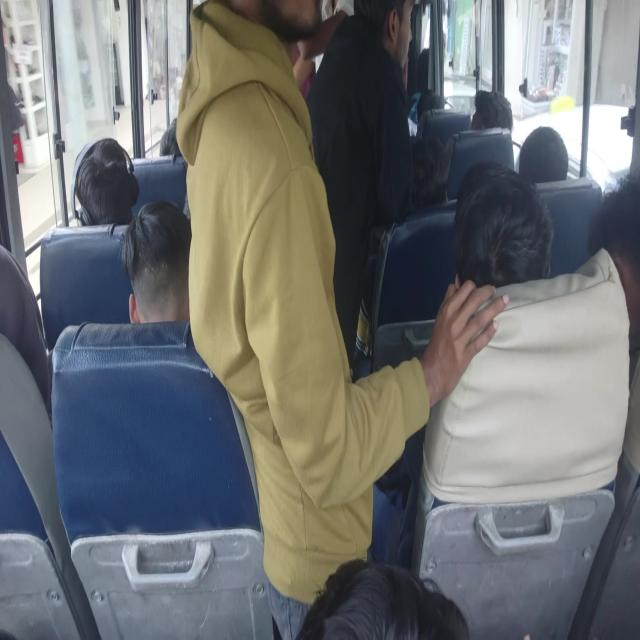person: (227, 0, 346, 195), (300, 531, 492, 640), (473, 160, 557, 302), (119, 219, 198, 342), (73, 146, 161, 248), (0, 270, 56, 395), (599, 175, 640, 305), (355, 2, 423, 64), (538, 115, 581, 180), (474, 88, 530, 130), (156, 118, 200, 162), (419, 97, 451, 121)
